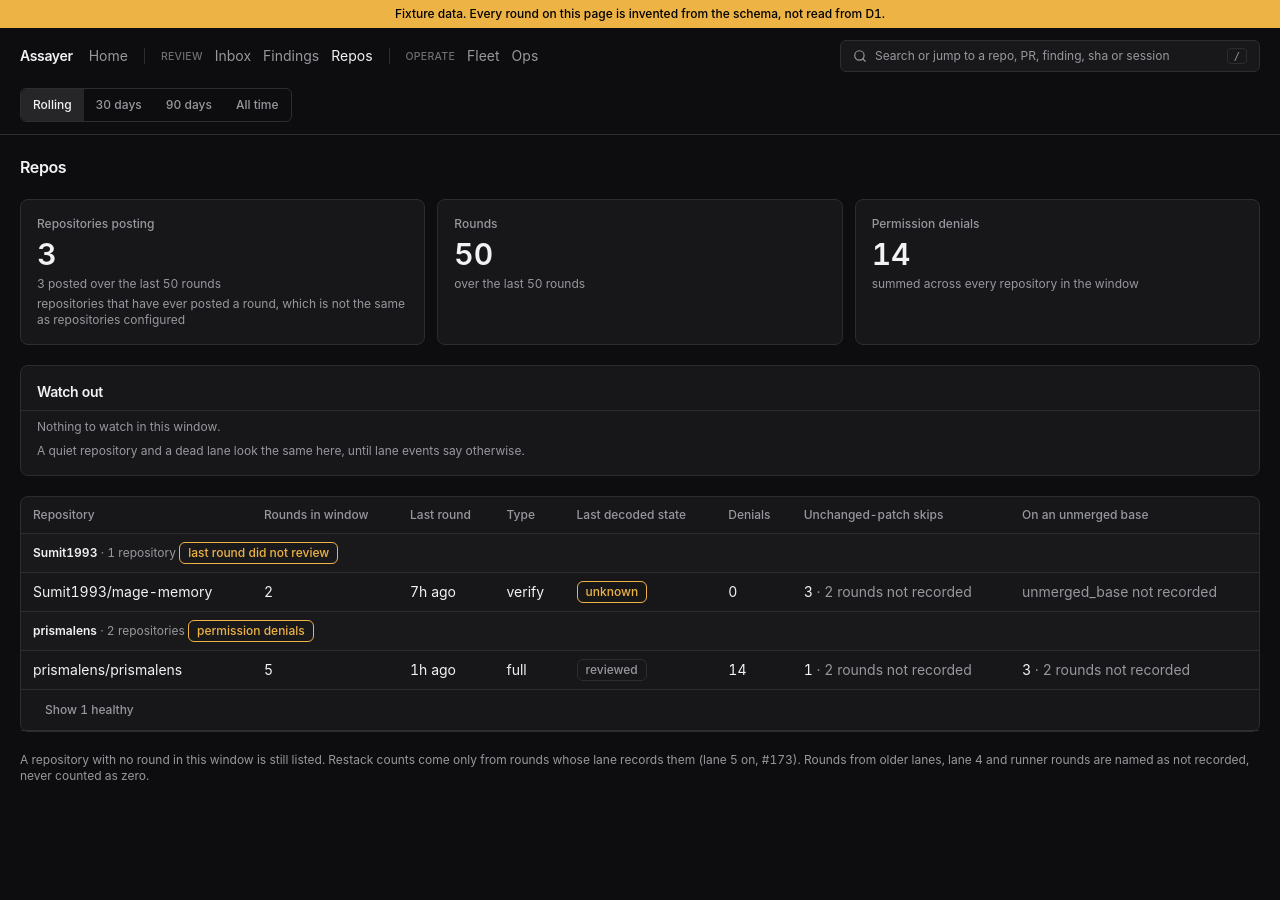
/repos › names restack counts as not recorded when the window's rounds come from lanes that do not record them (#179)
Click the button "Show 1 healthy". click: [89, 710]
box: 33,694 -> 146,726
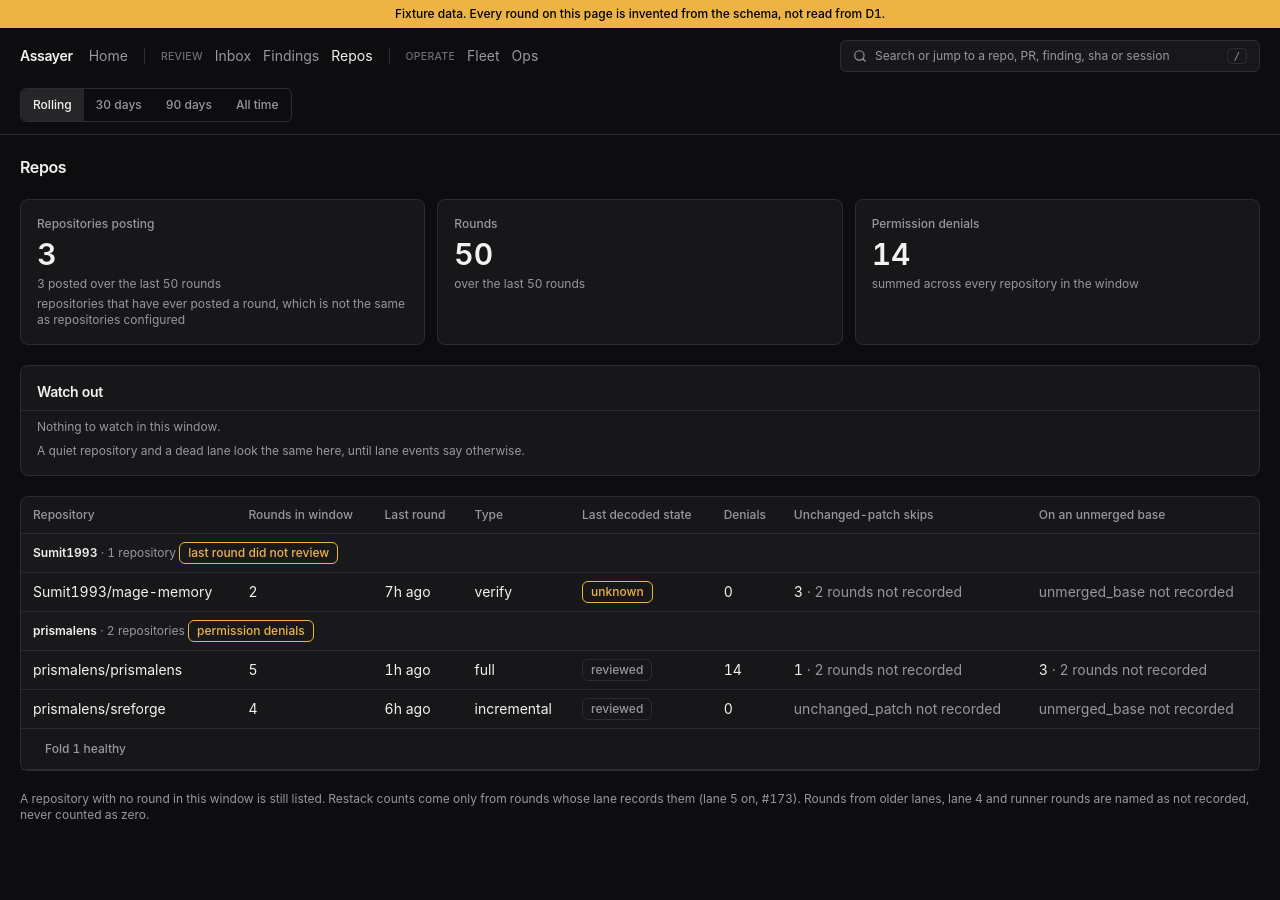
Expected: the text "unchanged_patch not recorded" is shown, 794,700 -> 1001,716
Expected: the text "unmerged_base not recorded" in the row of "prismalens/sreforge" is shown, 1039,700 -> 1234,716
Expected: the text "· 2 rounds not recorded" is shown 2 times, 803,660 -> 962,678; 1048,660 -> 1207,678
